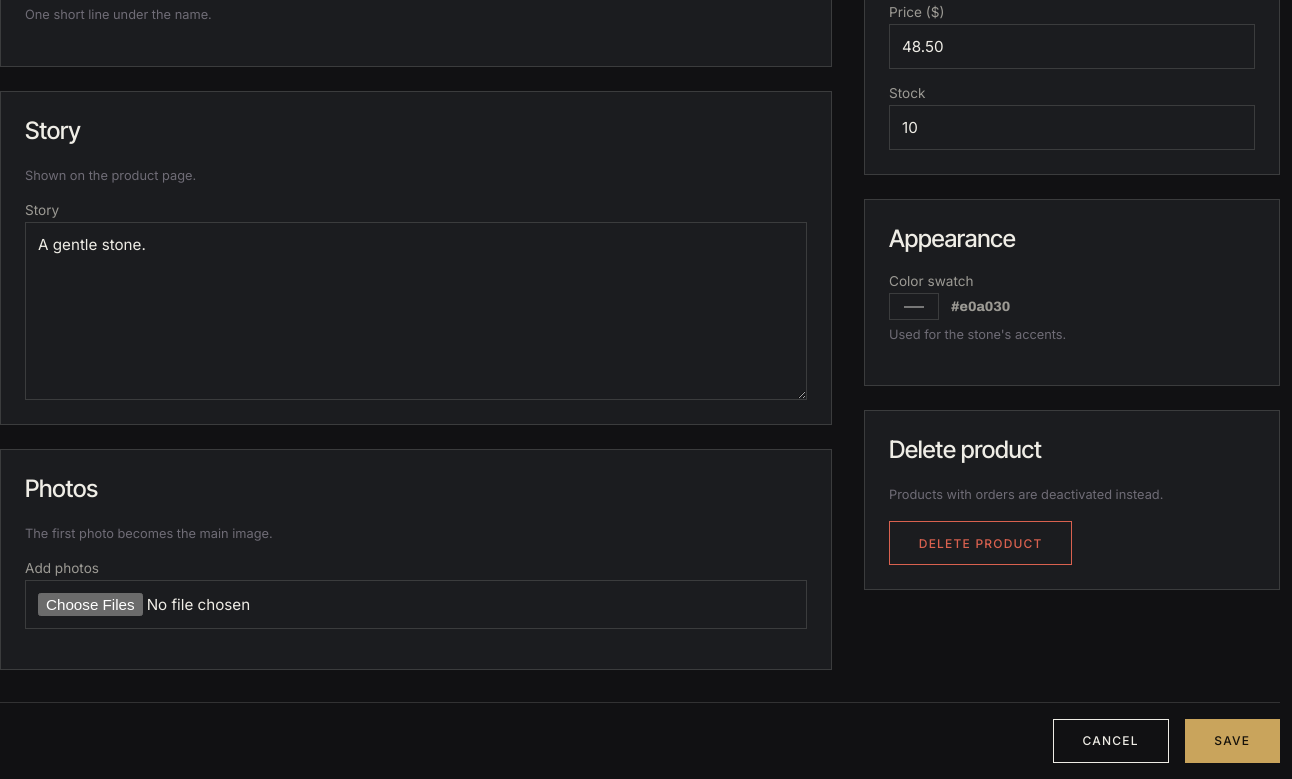
Test: ProductEditPage › shows the soft-delete message and stays on the page when the server reports softDeleted
(page scrolled)
Click the button "Delete product" at (981, 543), box [889,521,1072,565]
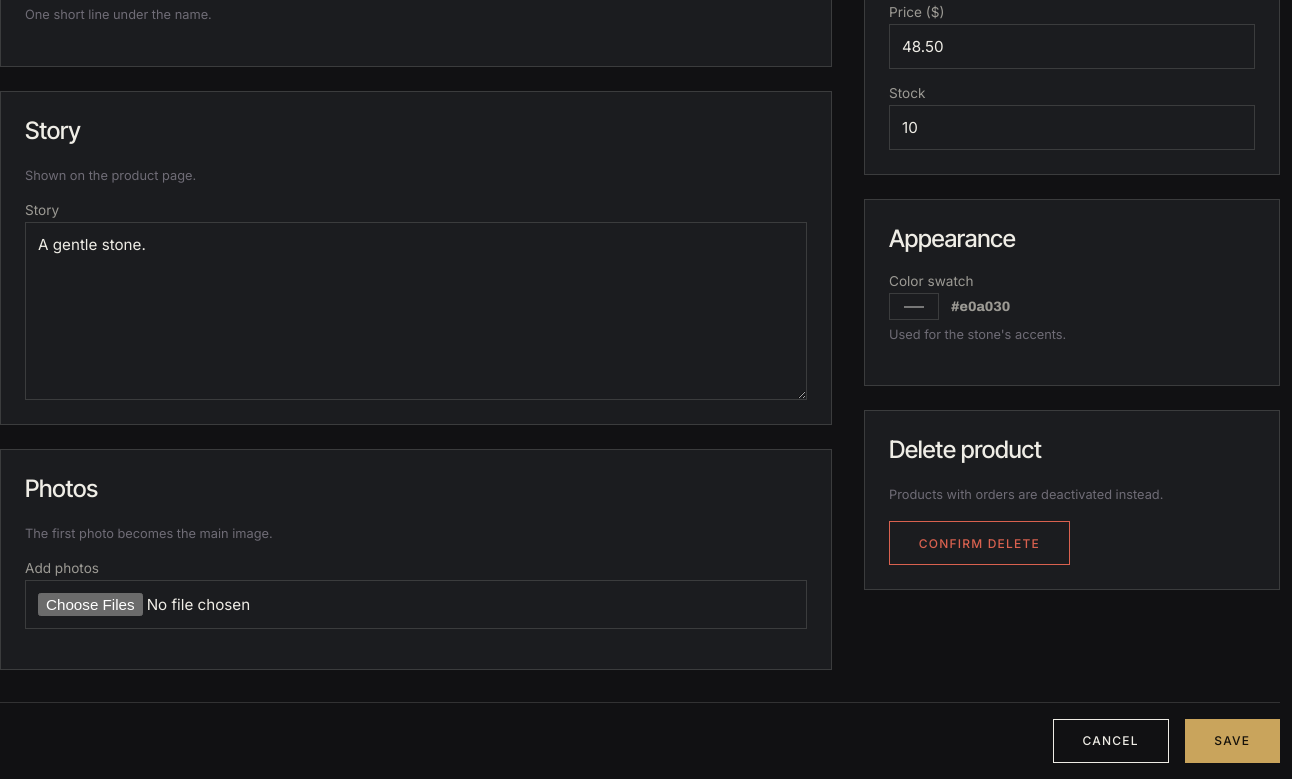
Click the button "Confirm delete" at (979, 543), box [889,521,1070,565]
(page scrolled)
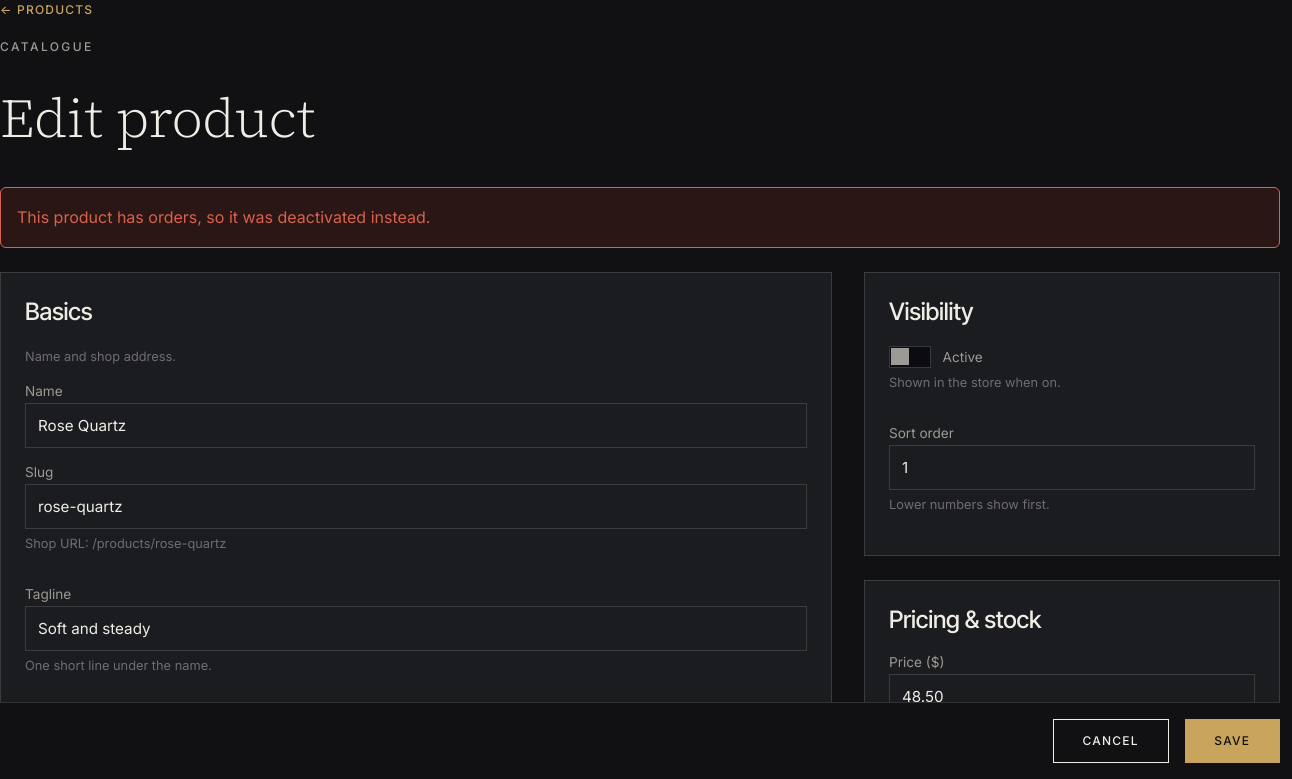
Expected: the text "This product has orders, so it was deactivated instead." is shown, [0,187,1280,248]
